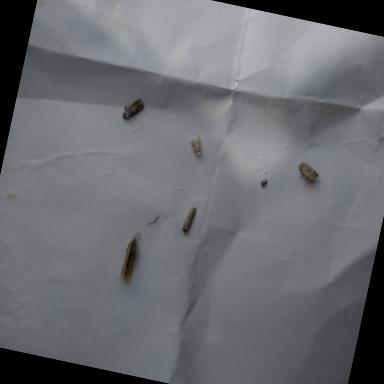pbw: (117, 91, 148, 122), (294, 158, 321, 184), (181, 204, 197, 234), (187, 134, 205, 156)
